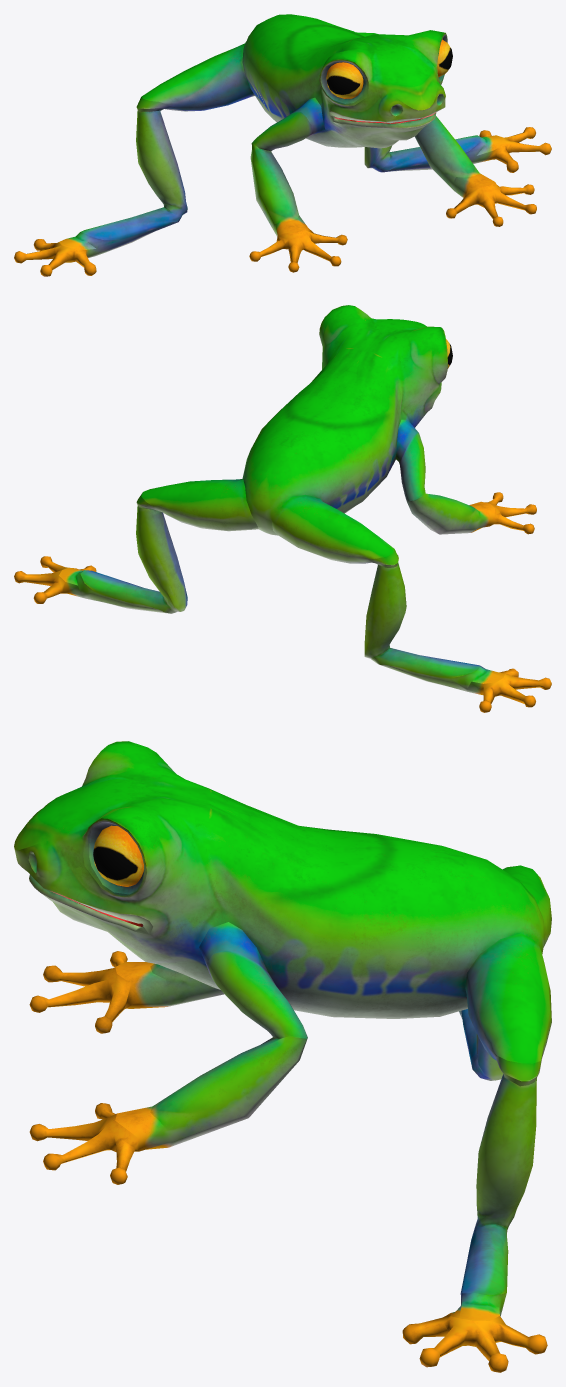
File: 2_Rana_Verde.fbx
The picture shows the model from 3 angles, top to bottom: view 1: azimuth 30°, elevation 25°; view 2: azimuth 150°, elevation 25°; view 3: azimuth 270°, elevation 25°; orthographic projection. The views are drawn at different scales.
Visible parts, largest first — view 1: 2_Rana_Verde.001; view 2: 2_Rana_Verde.001; view 3: 2_Rana_Verde.001.
Boxes of the visible parts, x1=… form: 2_Rana_Verde.001: x1=14, y1=14, x2=551, y2=276; 2_Rana_Verde.001: x1=14, y1=305, x2=551, y2=712; 2_Rana_Verde.001: x1=14, y1=741, x2=551, y2=1372.
Bounding box in the file's own units: 1365 × 617 × 755.
